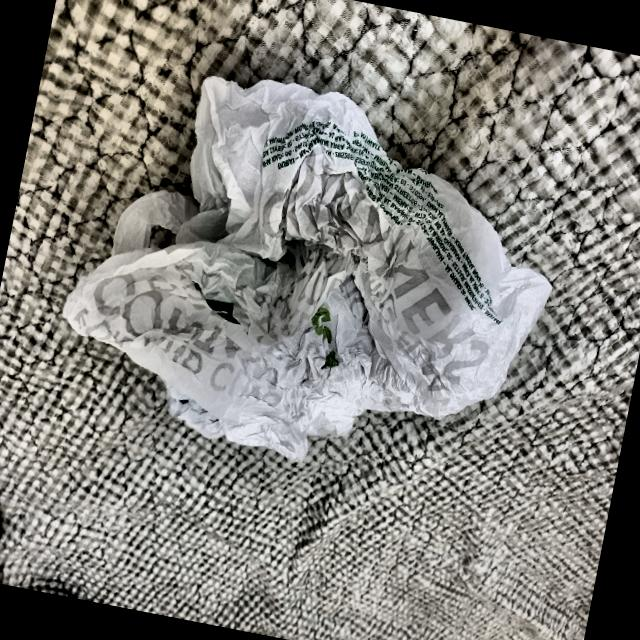plastic bag: (28, 39, 590, 516)
